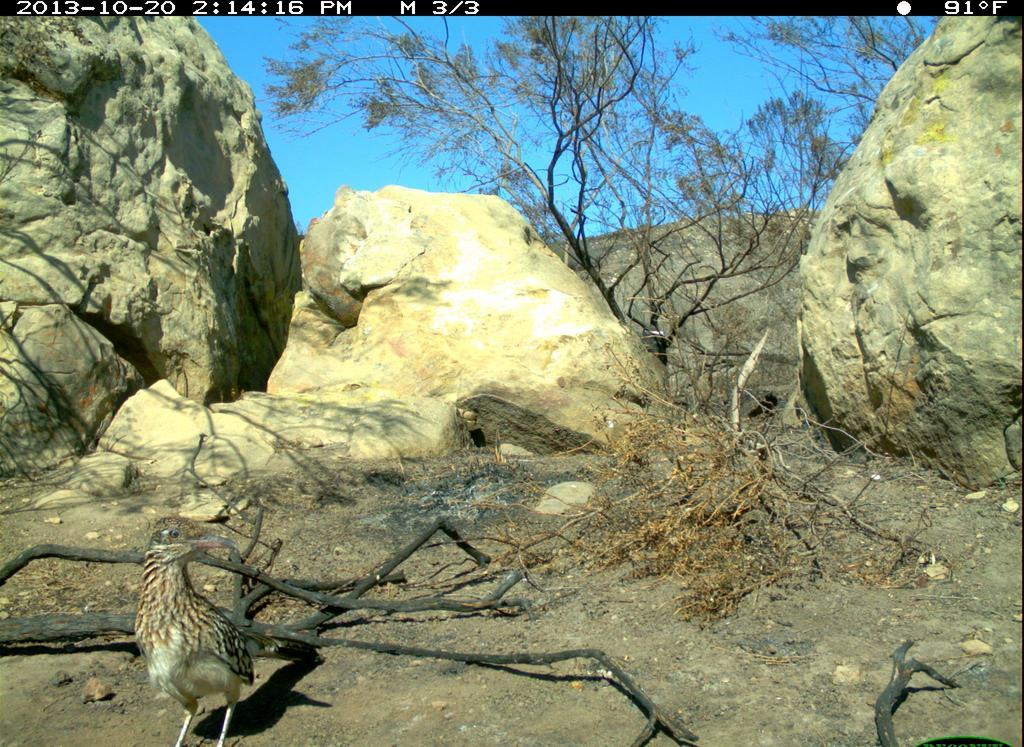bird: (125, 509, 290, 747)
